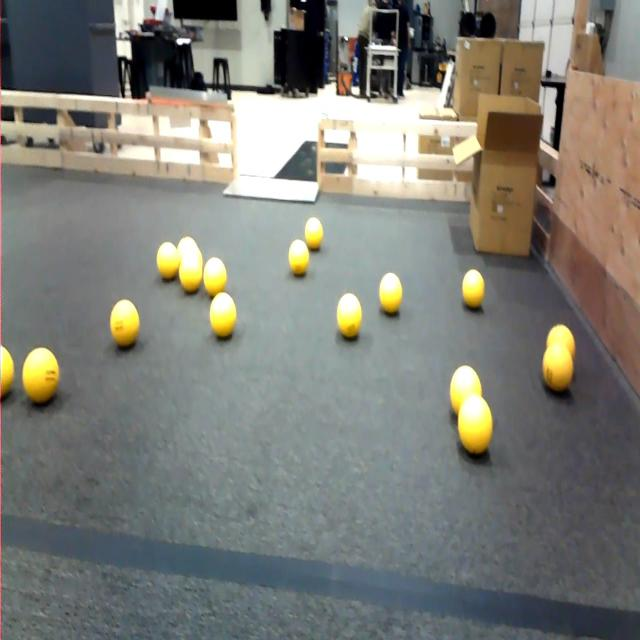fuel: (22, 348, 59, 404), (458, 395, 492, 455), (450, 366, 481, 415), (543, 344, 573, 392), (110, 300, 139, 348), (210, 292, 236, 338), (337, 294, 361, 338), (179, 251, 202, 293), (547, 325, 575, 359), (203, 257, 226, 297), (379, 273, 402, 313), (462, 270, 484, 309), (157, 242, 179, 279), (0, 346, 14, 398), (289, 240, 309, 276), (305, 217, 323, 250), (177, 237, 198, 260)
